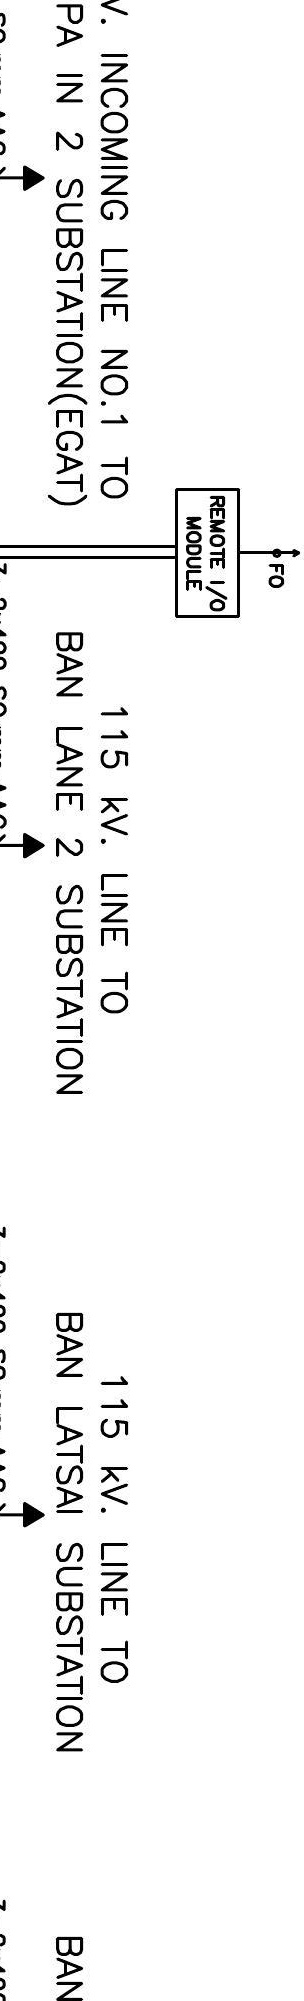remote_io_module: (175, 487, 240, 618)
